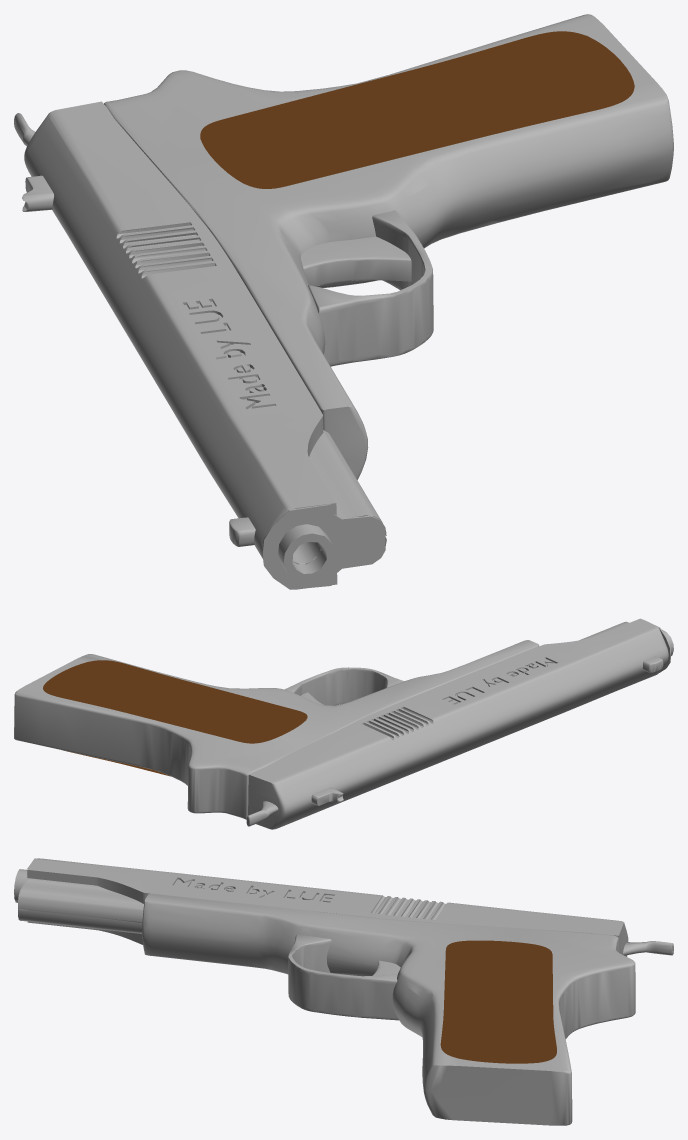
File: optimized pistol.fbx
3 views of the same model, one above another, from view 1: azimuth 30°, elevation 25°; view 2: azimuth 150°, elevation 25°; view 3: azimuth 270°, elevation 25° (orthographic). The views are drawn at different scales.
Parts seen in each view (by area): view 1: Plane; view 2: Plane; view 3: Plane.
Part boxes in pixels (x1=…): Plane: x1=14, y1=14, x2=673, y2=589; Plane: x1=14, y1=618, x2=673, y2=829; Plane: x1=14, y1=858, x2=673, y2=1125.
Bounding box in the file's own units: 602 × 75.98 × 718.
